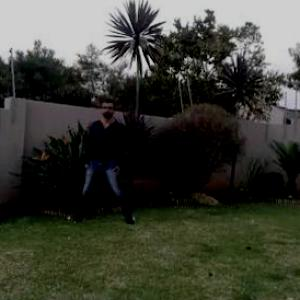follow: (86, 90, 125, 220)
